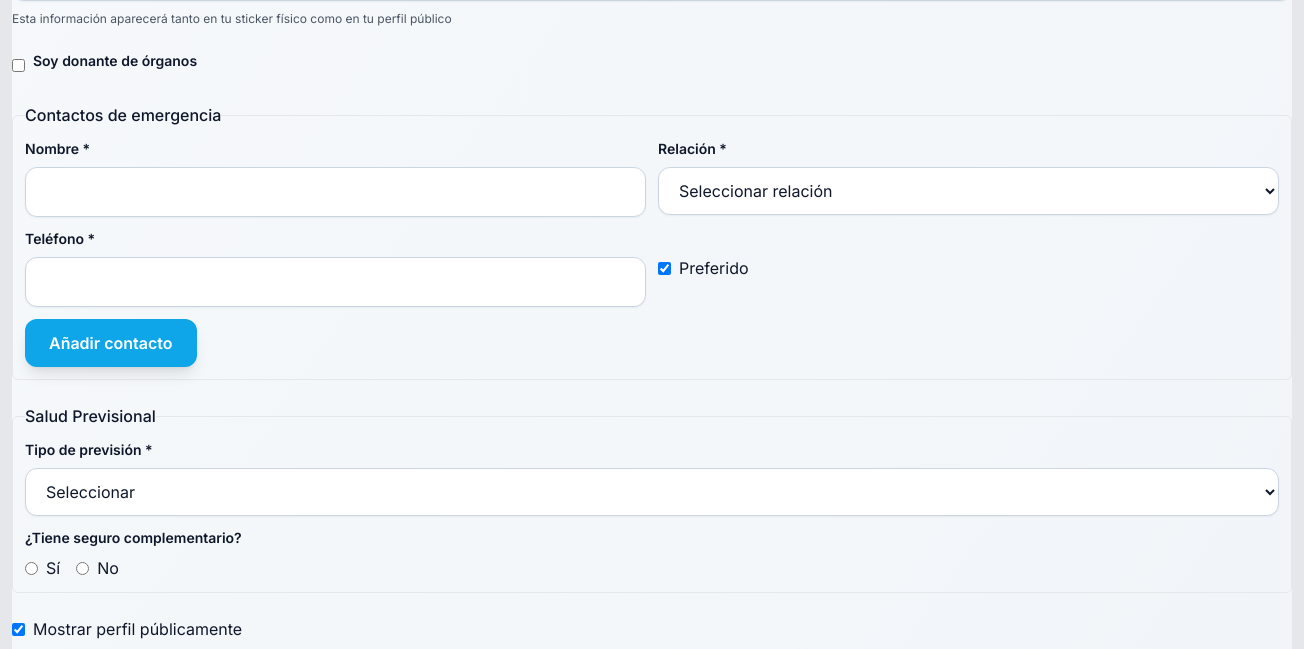
Test: ProfileForm › allows adding and removing contacts
This screenshot has width=1304, height=649.
(page scrolled)
Expected: the field labelled "Nombre *" is shown, [25,167,646,217]
Expected: the button "quitar último" is not shown
Note: Add contact
Click the button "Añadir contacto".
click(111, 343)  # box [25,319,196,367]
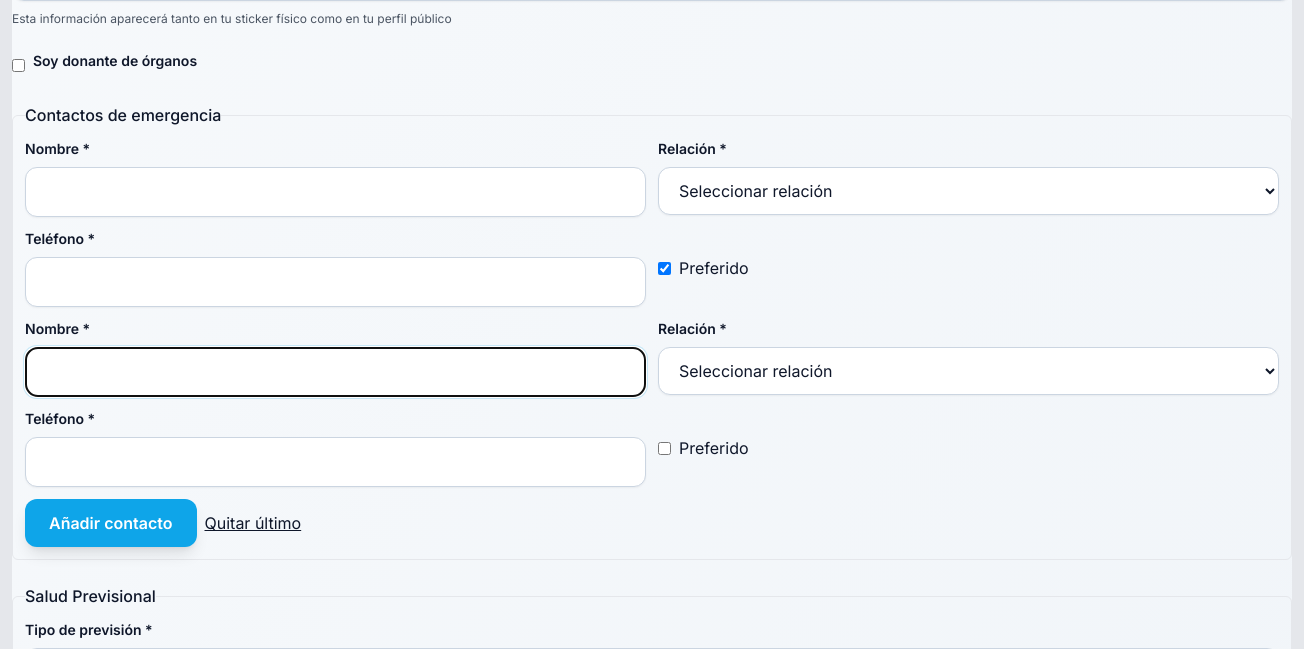
Expected: the 1st field labelled "Nombre *" is shown, [25,167,646,217]
Result: the field with id "cname-1" is shown at [25,347,646,397]
Result: the button "Quitar último" is shown
Note: Remove contact
Click the button "Quitar último".
click(253, 523)  # box [204,499,301,547]
(page scrolled)
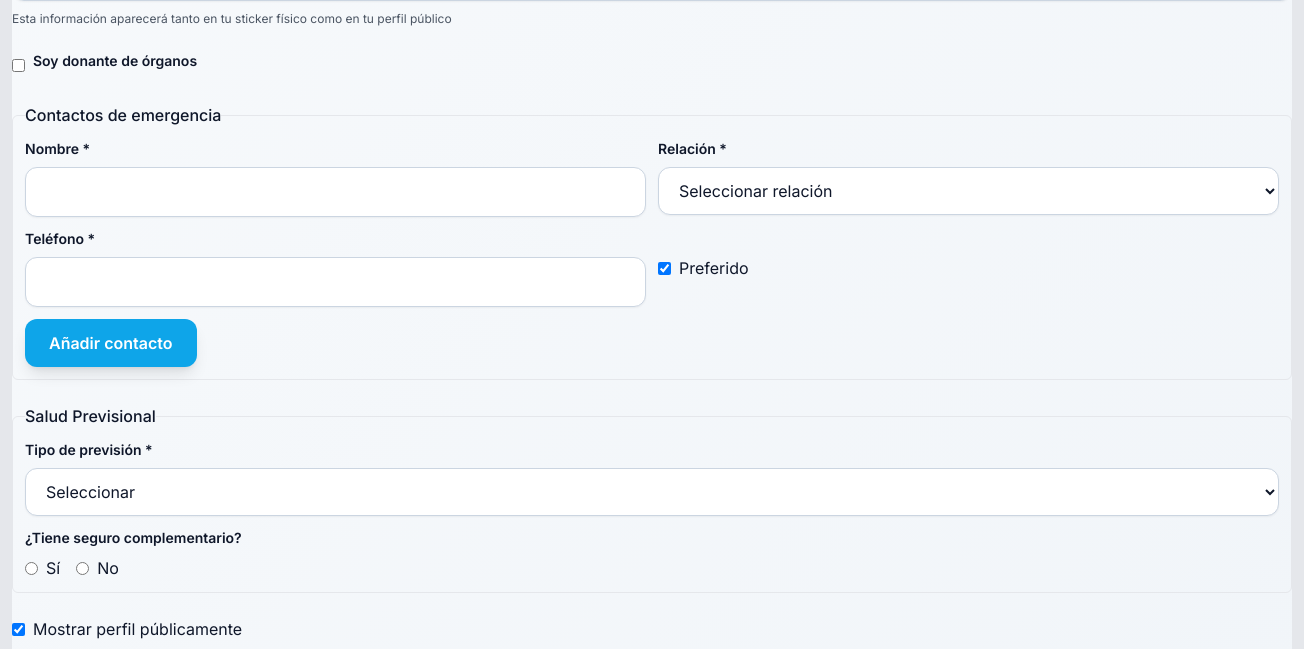
Expected: the field labelled "Nombre *" is shown, [25,167,646,217]
Result: the label with id "cname-1" is gone
